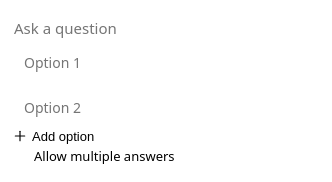
Scenario: FlarePollComposer › the multiple-choice box shows its state, not a permanent tick
Click the checkbox labelled "Allow multiple answers": click(104, 156) [34,147,175,165]
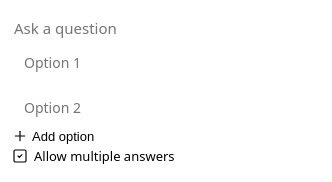
Check: the picture with class "flare-poll-composer__check" is shown, box [12,148,28,164]
